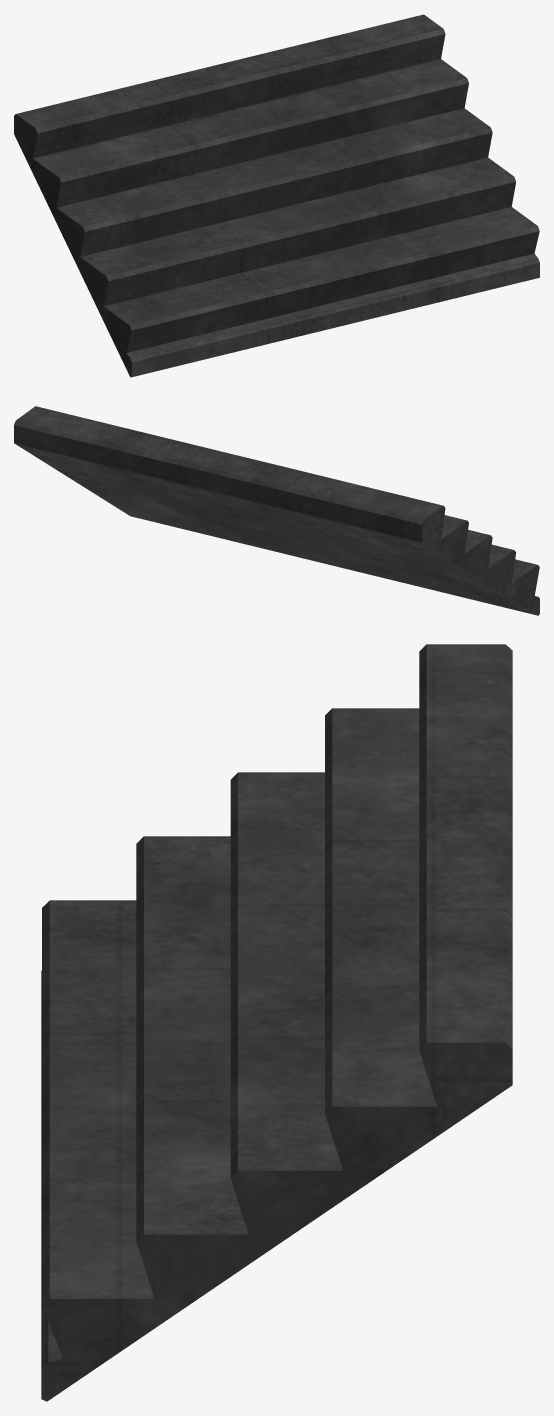
The model's file is stairs_3.fbx.
3 views of the same model, one above another, from view 1: azimuth 30°, elevation 25°; view 2: azimuth 150°, elevation 25°; view 3: azimuth 270°, elevation 25° (orthographic). The views are drawn at different scales.
Visible parts, largest first — view 1: stairs_3; view 2: stairs_3; view 3: stairs_3.
Boxes of the visible parts, left/top/right/bottom form: stairs_3: left=14, top=14, right=539, bottom=377; stairs_3: left=14, top=406, right=539, bottom=615; stairs_3: left=41, top=644, right=512, bottom=1401.
Bounding box in the file's own units: 4 × 2 × 1.68.
